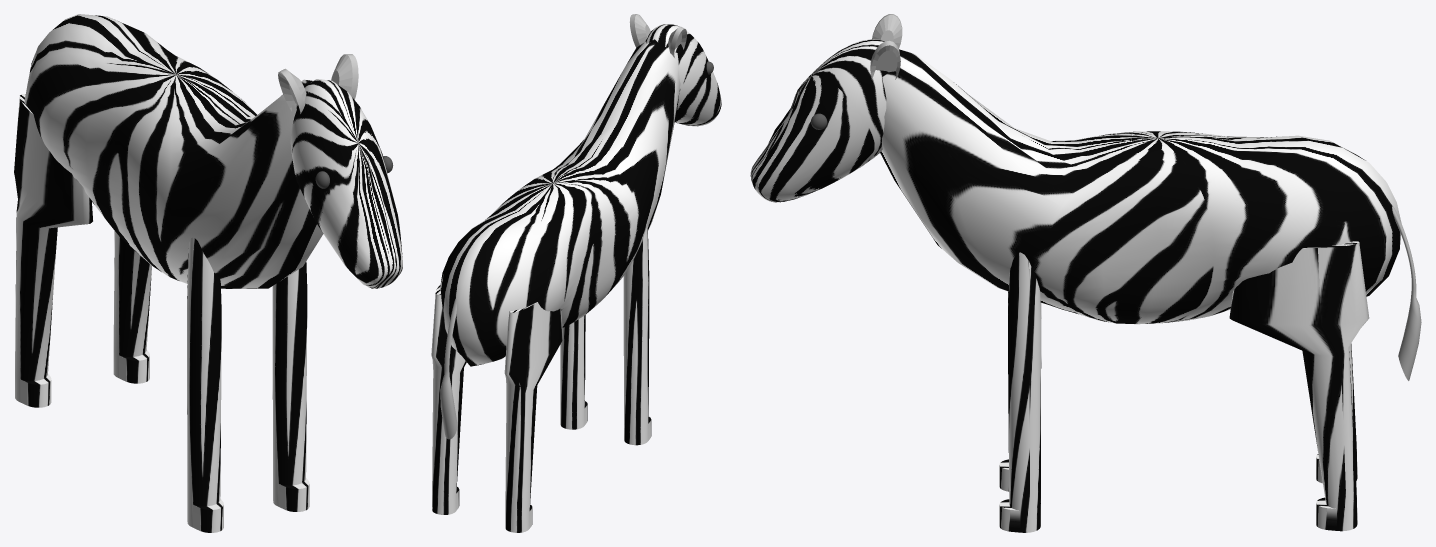
File: zebra.fbx
3 views of the same model, side by side, from view 1: azimuth 30°, elevation 25°; view 2: azimuth 150°, elevation 25°; view 3: azimuth 270°, elevation 25° (orthographic). The views are drawn at different scales.
Visible parts, largest first — view 1: pSphere29, pSphere30, pCylinder43, pCylinder42, pCylinder39, pCylinder37, pCylinder35, pCylinder36; view 2: pSphere29, pCylinder43, pCylinder42, pCylinder37, pSphere30, pCylinder39, pCylinder41, pCylinder35, pCylinder36; view 3: pSphere29, pCylinder37, pSphere30, pCylinder39, pCylinder41, pCylinder35.
Boxes of the visible parts, <box> form: pSphere29: <box>24,14,323,288</box>; pSphere30: <box>290,79,402,288</box>; pCylinder43: <box>14,94,92,407</box>; pCylinder42: <box>187,237,223,532</box>; pCylinder39: <box>272,262,309,511</box>; pCylinder37: <box>113,231,151,383</box>; pCylinder35: <box>331,54,358,99</box>; pCylinder36: <box>278,68,306,113</box>; pSphere29: <box>440,39,680,366</box>; pCylinder43: <box>504,302,563,532</box>; pCylinder42: <box>623,226,651,445</box>; pCylinder37: <box>431,285,466,514</box>; pSphere30: <box>645,24,721,126</box>; pCylinder39: <box>560,315,587,429</box>; pCylinder41: <box>440,299,457,439</box>; pCylinder35: <box>629,14,650,47</box>; pCylinder36: <box>668,26,686,57</box>; pSphere29: <box>880,49,1401,324</box>; pCylinder37: <box>1229,240,1369,531</box>; pSphere30: <box>750,39,888,202</box>; pCylinder39: <box>999,252,1041,532</box>; pCylinder41: <box>1392,206,1421,380</box>; pCylinder35: <box>870,40,900,80</box>.
Bounding box in the file's own units: 1.76 × 6.16 × 7.82.
